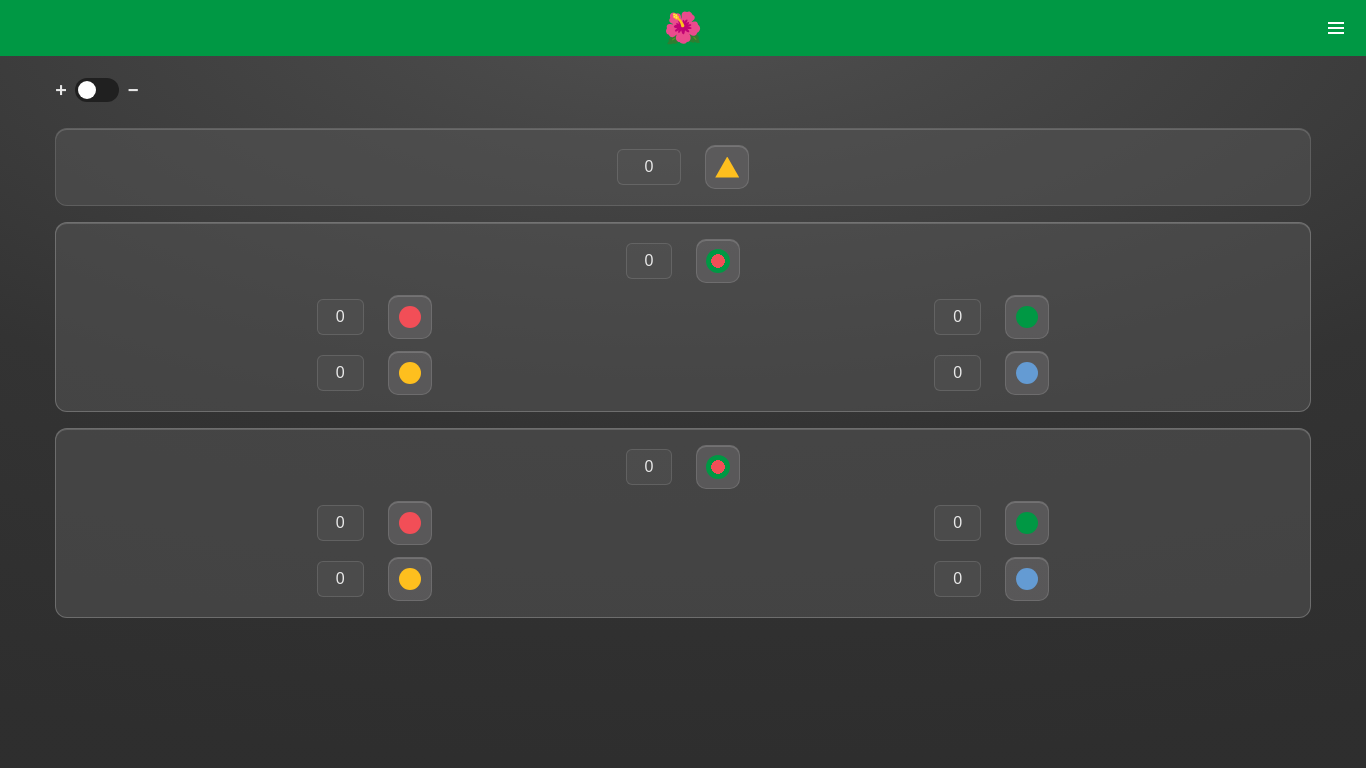
モード切替バー › デクリメントモードのときのみ、リセットアイコンが表示される
Click the checkbox named "モード切替".
click(97, 90)  # box left=75, top=78, right=119, bottom=102
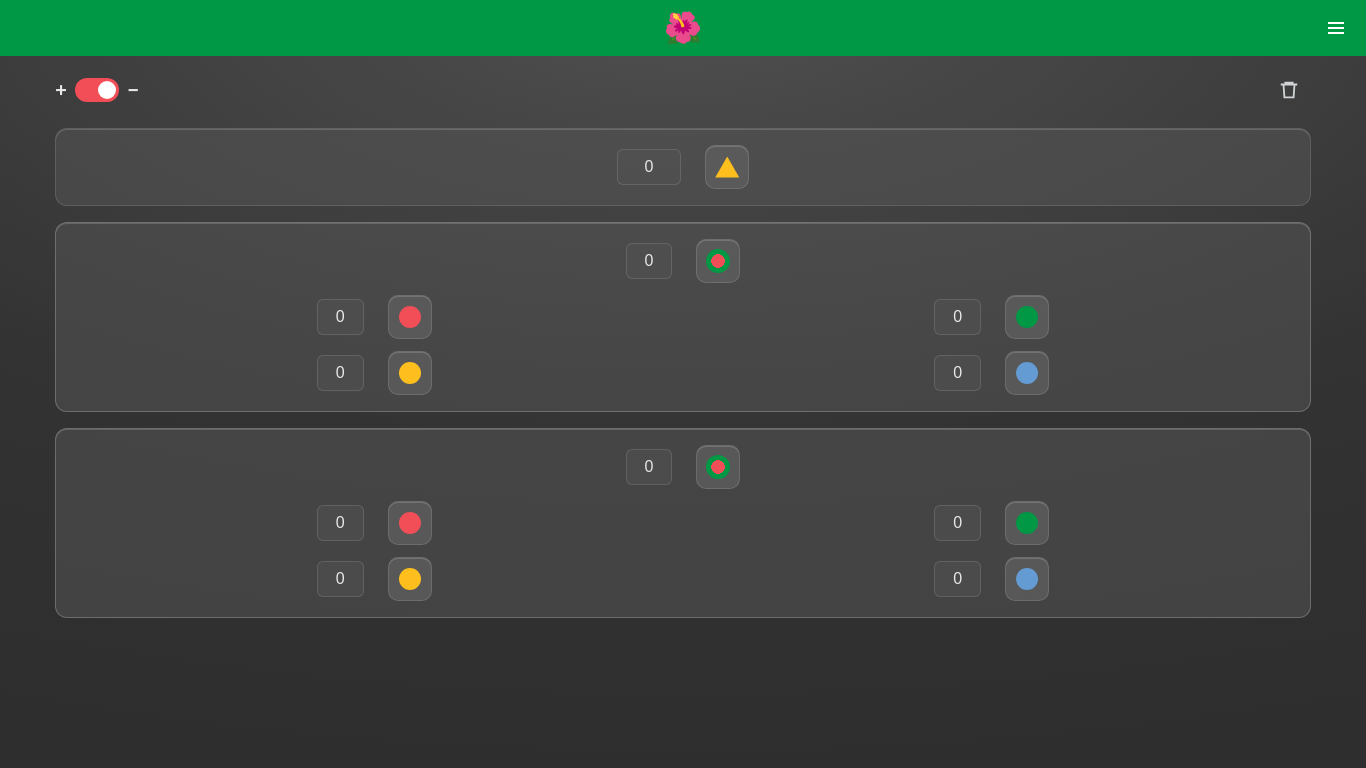
Expected: the button named "リセット" is shown, left=1267, top=68, right=1311, bottom=112
